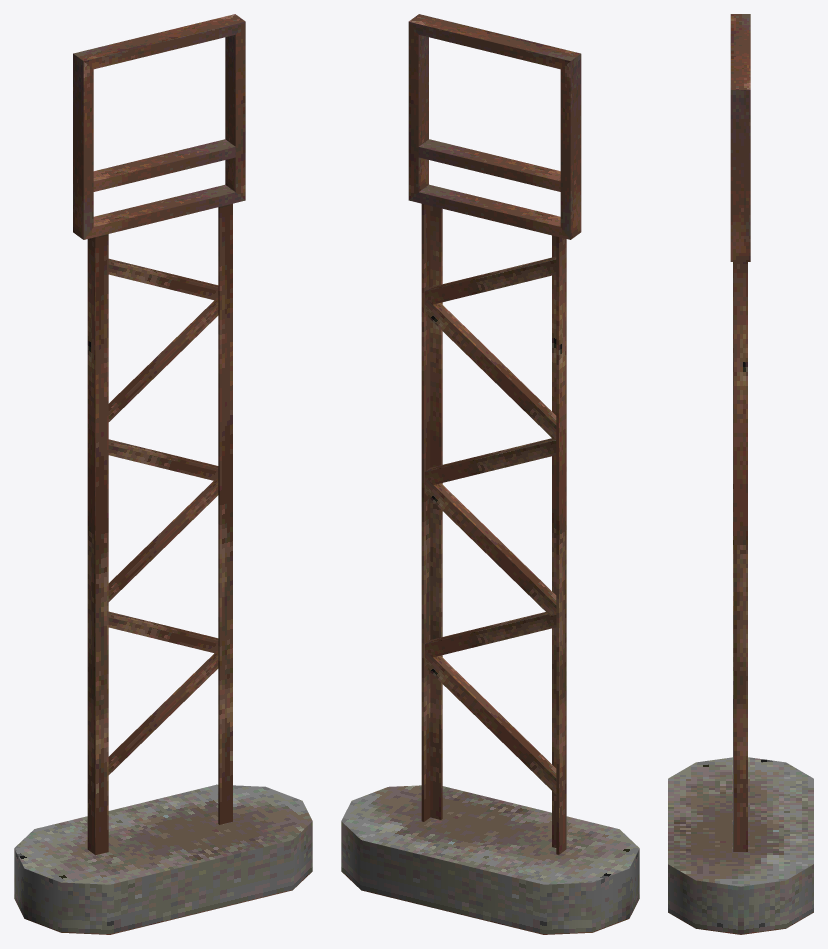
File: pipes_support.glb
The picture shows the model from 3 angles, left to right: view 1: azimuth 30°, elevation 25°; view 2: azimuth 150°, elevation 25°; view 3: azimuth 270°, elevation 25°; orthographic projection. The views are drawn at different scales.
Parts seen in each view (by area): view 1: Pipes_support; view 2: Pipes_support; view 3: Pipes_support.
Part boxes in pixels (left/top/right/bottom): Pipes_support: left=14, top=14, right=312, bottom=934; Pipes_support: left=341, top=14, right=639, bottom=934; Pipes_support: left=668, top=14, right=813, bottom=934.
Bounding box in the file's own units: 1.77 × 5.15 × 0.8349.
Materials: 1 (1 with a texture image).
